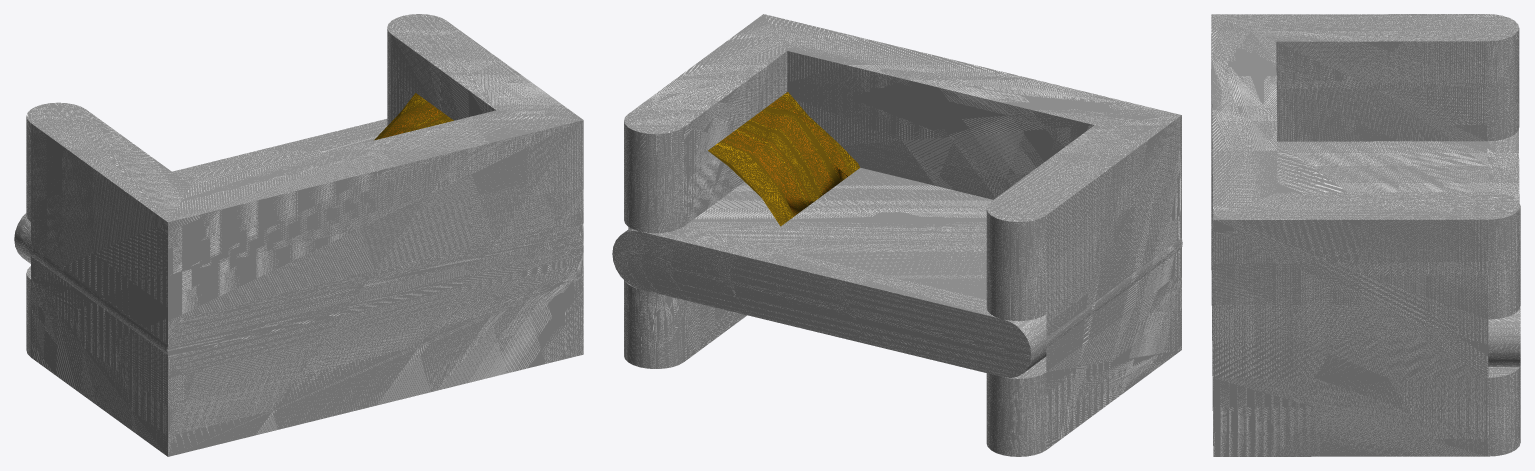
3 views of the same model, side by side, from view 1: azimuth 30°, elevation 25°; view 2: azimuth 150°, elevation 25°; view 3: azimuth 270°, elevation 25° (orthographic).
Visible parts, largest first — view 1: mesh24_mesh24-geometry, mesh1_mesh1-geometry; view 2: mesh24_mesh24-geometry, mesh1_mesh1-geometry; view 3: mesh24_mesh24-geometry.
Boxes of the visible parts, left/top/right/bottom form: mesh24_mesh24-geometry: left=14, top=14, right=583, bottom=456; mesh1_mesh1-geometry: left=374, top=93, right=453, bottom=140; mesh24_mesh24-geometry: left=612, top=14, right=1182, bottom=456; mesh1_mesh1-geometry: left=708, top=92, right=860, bottom=226; mesh24_mesh24-geometry: left=1211, top=14, right=1520, bottom=456.
Bounding box in the file's own units: 0.7696 × 0.4122 × 0.4876.
